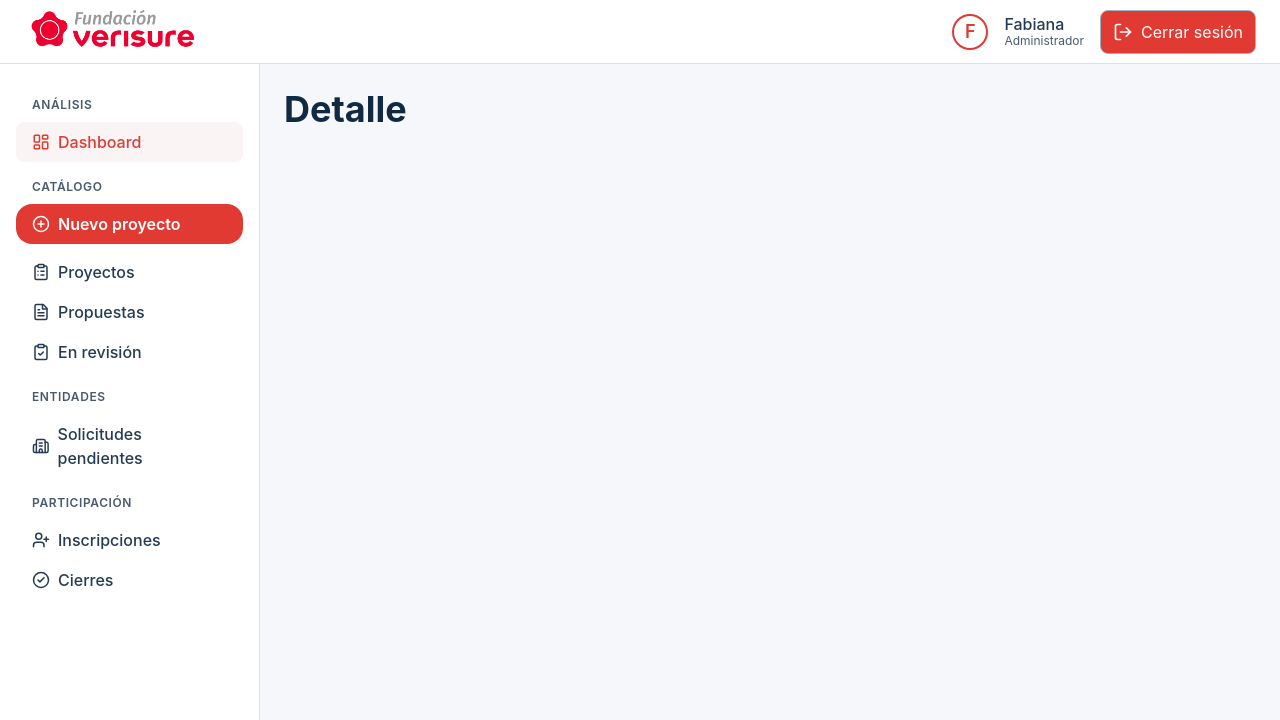
AppLayout › enlaza el logo de la topbar con el inicio del rol, no con la landing
The image size is (1280, 720).
Click the link named "Fundación Verisure" at [112, 28], box [24,4,201,52]
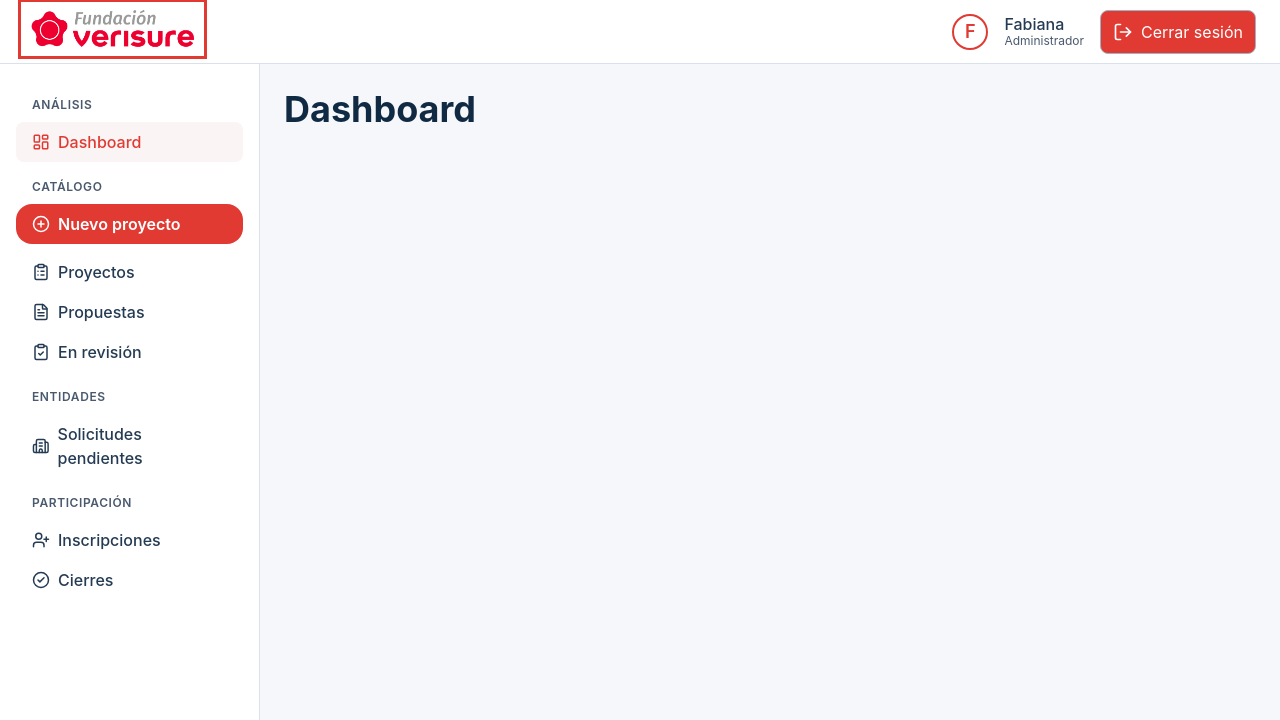
Now the heading "Dashboard" is shown, box [284,87,476,131]
